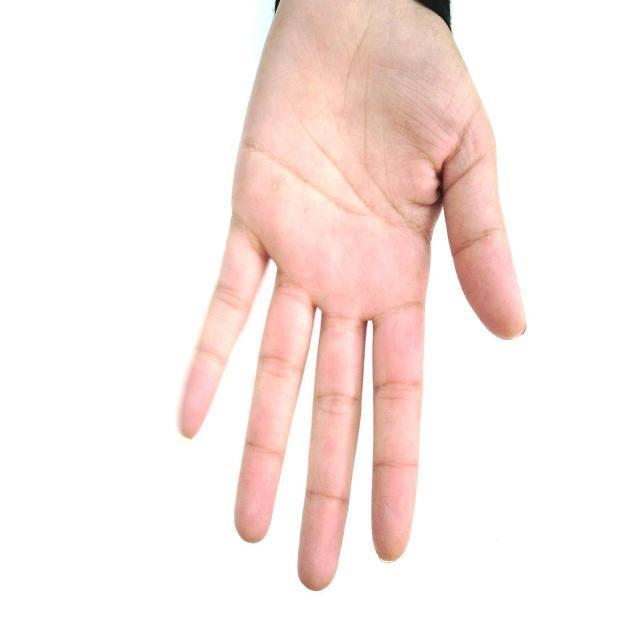hand: (175, 0, 527, 591)
